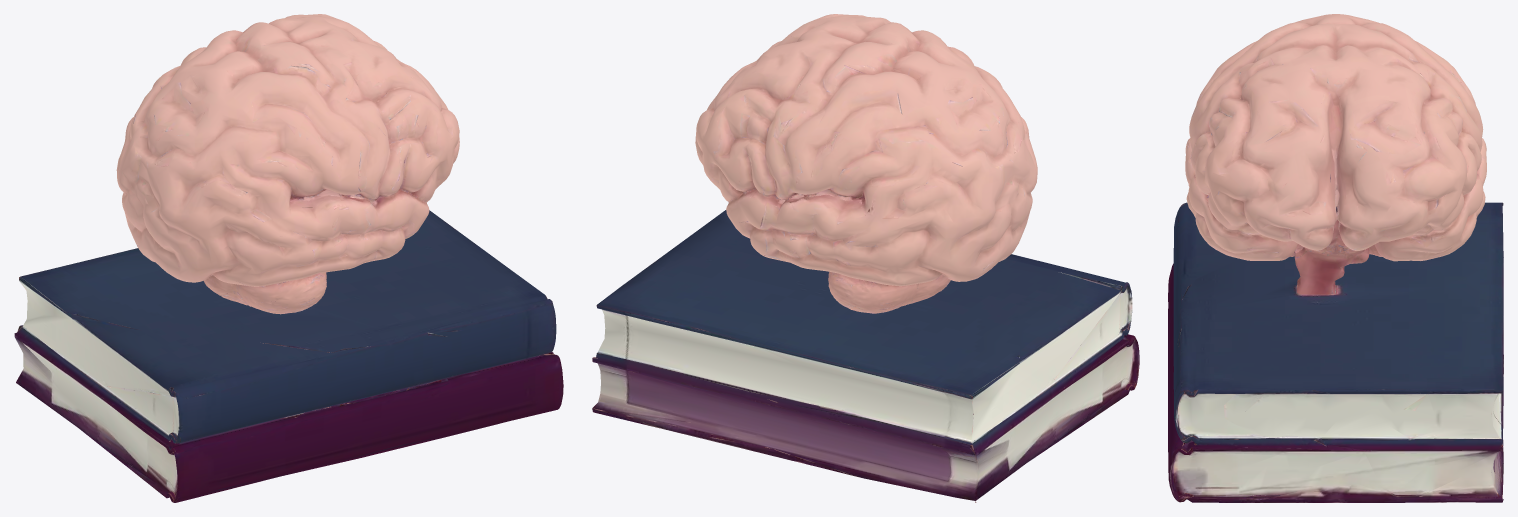
Rendered from brain.glb.
The picture shows the model from 3 angles, left to right: view 1: azimuth 30°, elevation 25°; view 2: azimuth 150°, elevation 25°; view 3: azimuth 270°, elevation 25°; orthographic projection. The views are drawn at different scales.
Parts seen in each view (by area): view 1: Mesh_0; view 2: Mesh_0; view 3: Mesh_0.
Boxes of the visible parts, left/top/right/bottom form: Mesh_0: left=14, top=14, right=563, bottom=502; Mesh_0: left=592, top=14, right=1139, bottom=502; Mesh_0: left=1168, top=14, right=1503, bottom=502.
Size of the model in its own units: 1.9 by 1.72 by 1.4.
Materials: 1 (1 with a texture image).
